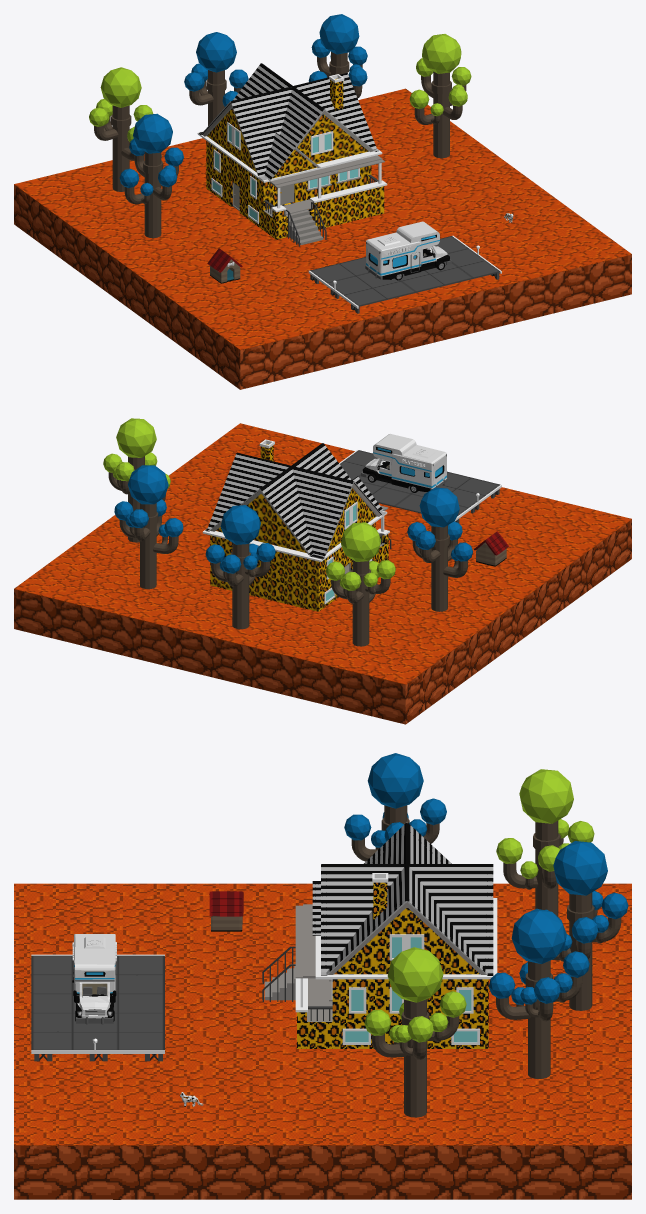
3 renders of one model, top to bottom at view 1: azimuth 30°, elevation 25°; view 2: azimuth 150°, elevation 25°; view 3: azimuth 270°, elevation 25°, orthographic. The views are drawn at different scales.
Visible parts, largest first — view 1: Cube.001, Cube.637, VEHICLES_CAMPER, OBJRANDOM_DOGHOUSE; view 2: Cube.001, Cube.637, VEHICLES_CAMPER, OBJRANDOM_DOGHOUSE; view 3: Cube.001, Cube.637, VEHICLES_CAMPER, OBJRANDOM_DOGHOUSE.
Part boxes in pixels (x1,y1,x2,y2): Cube.001: (14,14,631,389); Cube.637: (197,63,387,246); VEHICLES_CAMPER: (365,221,451,280); OBJRANDOM_DOGHOUSE: (207,248,242,283); Cube.001: (14,418,631,724); Cube.637: (202,439,391,611); VEHICLES_CAMPER: (361,434,447,492); OBJRANDOM_DOGHOUSE: (473,531,508,566); Cube.001: (14,753,631,1199); Cube.637: (262,822,497,1048); VEHICLES_CAMPER: (72,934,116,1024); OBJRANDOM_DOGHOUSE: (209,891,243,931).
Size of the model in its own units: 4000 by 1637 by 4000.
37 materials, 5 textured.
